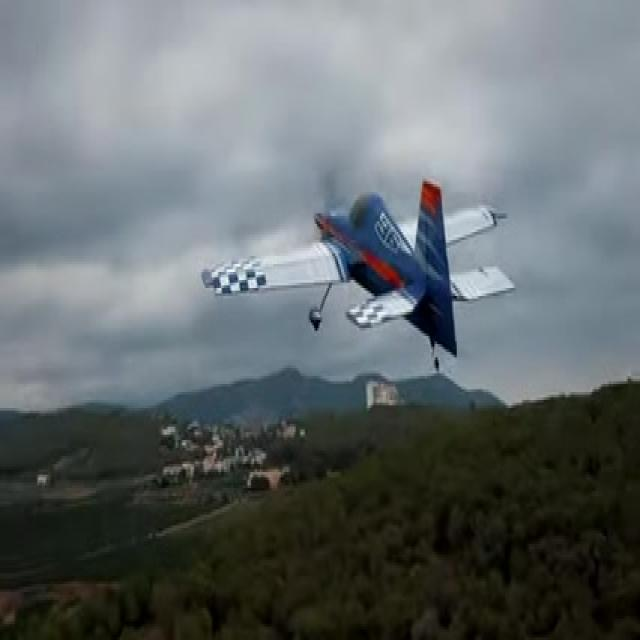iha: (201, 165, 517, 374)
